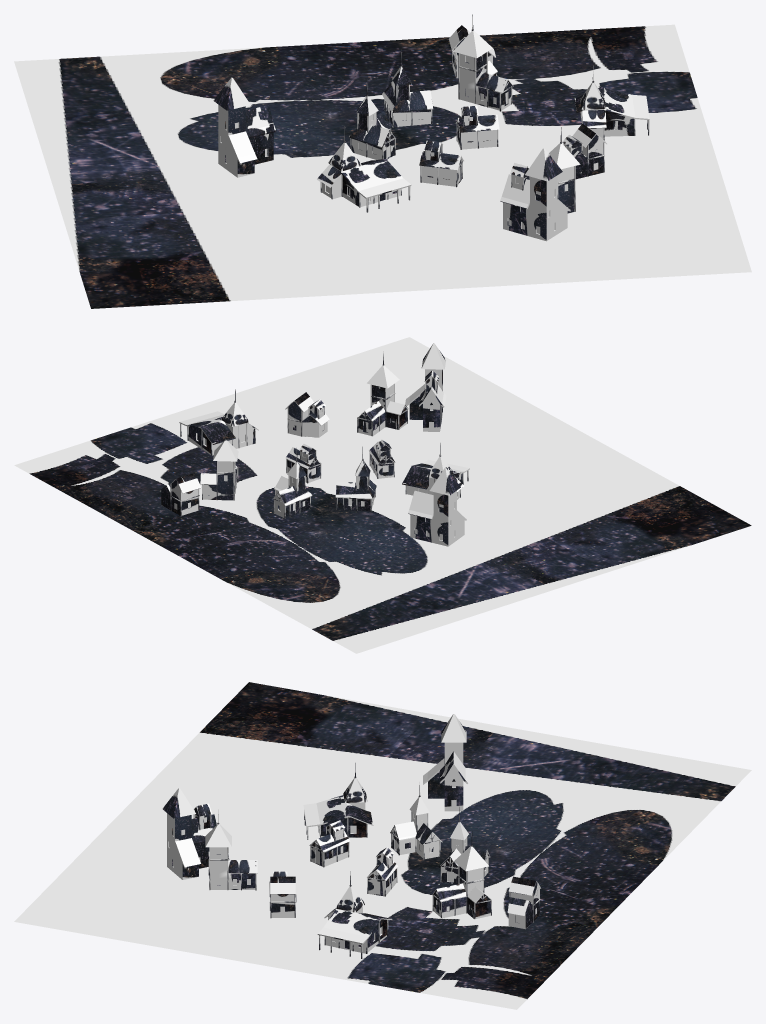
The model's file is houses_blender1.fbx.
3 views of the same model, one above another, from view 1: azimuth 30°, elevation 25°; view 2: azimuth 150°, elevation 25°; view 3: azimuth 270°, elevation 25° (orthographic). The views are drawn at different scales.
Parts seen in each view (by area): view 1: Object_2, Object_23, Object_12, Object_7, Object_14, Object_20, Object_18, Object_6, Object_19, Object_17, Object_9, Object_3 (+4 smaller); view 2: Object_2, Object_23, Object_12, Object_20, Object_14, Object_7, Object_6, Object_18, Object_17, Object_19, Object_9, Object_11; view 3: Object_2, Object_23, Object_12, Object_7, Object_20, Object_14, Object_6, Object_17, Object_19, Object_11, Object_9, Object_18 (+1 smaller).
Boxes of the visible parts, <box> form: Object_2: <box>14,24,751,308</box>; Object_23: <box>213,77,570,241</box>; Object_12: <box>453,30,580,213</box>; Object_7: <box>340,87,649,198</box>; Object_14: <box>320,46,649,212</box>; Object_20: <box>449,25,606,179</box>; Object_18: <box>349,81,433,147</box>; Object_6: <box>322,109,634,206</box>; Object_19: <box>421,122,496,186</box>; Object_17: <box>351,101,430,159</box>; Object_9: <box>328,82,606,171</box>; Object_3: <box>419,114,499,170</box>; Object_2: <box>14,337,751,653</box>; Object_23: <box>405,343,466,546</box>; Object_12: <box>202,365,407,500</box>; Object_20: <box>160,392,329,515</box>; Object_14: <box>170,383,468,518</box>; Object_7: <box>179,411,469,489</box>; Object_6: <box>188,422,462,499</box>; Object_18: <box>272,476,376,506</box>; Object_17: <box>274,490,374,517</box>; Object_19: <box>287,454,393,482</box>; Object_9: <box>221,402,453,478</box>; Object_11: <box>200,401,408,484</box>; Object_2: <box>14,682,751,1009</box>; Object_23: <box>162,714,468,879</box>; Object_12: <box>205,824,490,918</box>; Object_7: <box>303,795,392,944</box>; Object_20: <box>270,876,540,929</box>; Object_14: <box>208,810,540,958</box>; Object_6: <box>318,802,386,953</box>; Object_17: <box>392,829,487,884</box>; Object_19: <box>311,841,396,896</box>; Object_11: <box>228,860,491,903</box>; Object_9: <box>335,778,367,912</box>; Object_18: <box>390,821,490,867</box>.
Size of the model in its own units: 8421 by 1005 by 8010.
22 materials, 22 textured.
